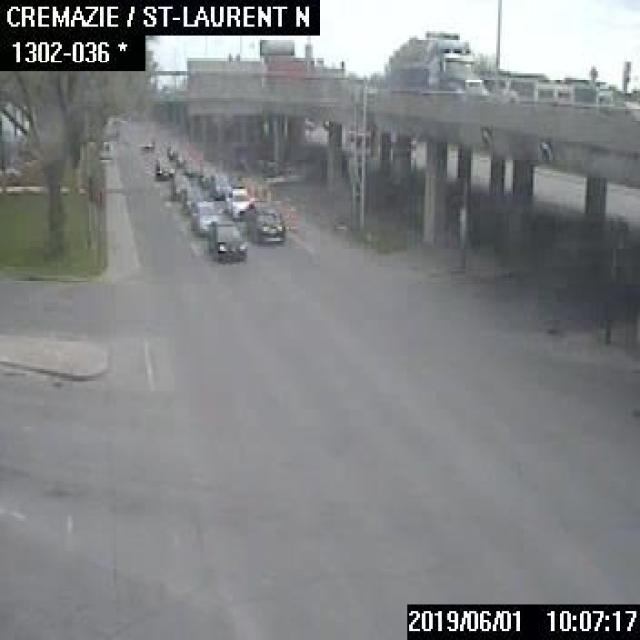construction: (285, 206, 293, 226)
vehicle: (386, 33, 492, 103), (205, 216, 246, 261), (246, 198, 285, 241), (224, 185, 253, 221), (191, 198, 220, 233), (180, 182, 206, 212), (168, 172, 191, 200), (208, 171, 232, 196), (198, 163, 218, 186), (155, 154, 173, 178), (183, 156, 201, 176), (177, 148, 191, 165), (166, 141, 179, 156)
